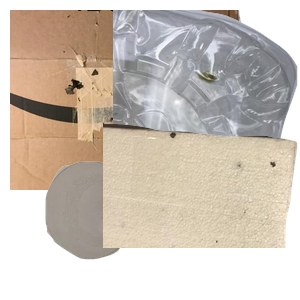cardboard: (10, 10, 245, 190)
glass: (43, 159, 187, 300)
plastic: (113, 10, 300, 190)
trash: (103, 120, 300, 300)
